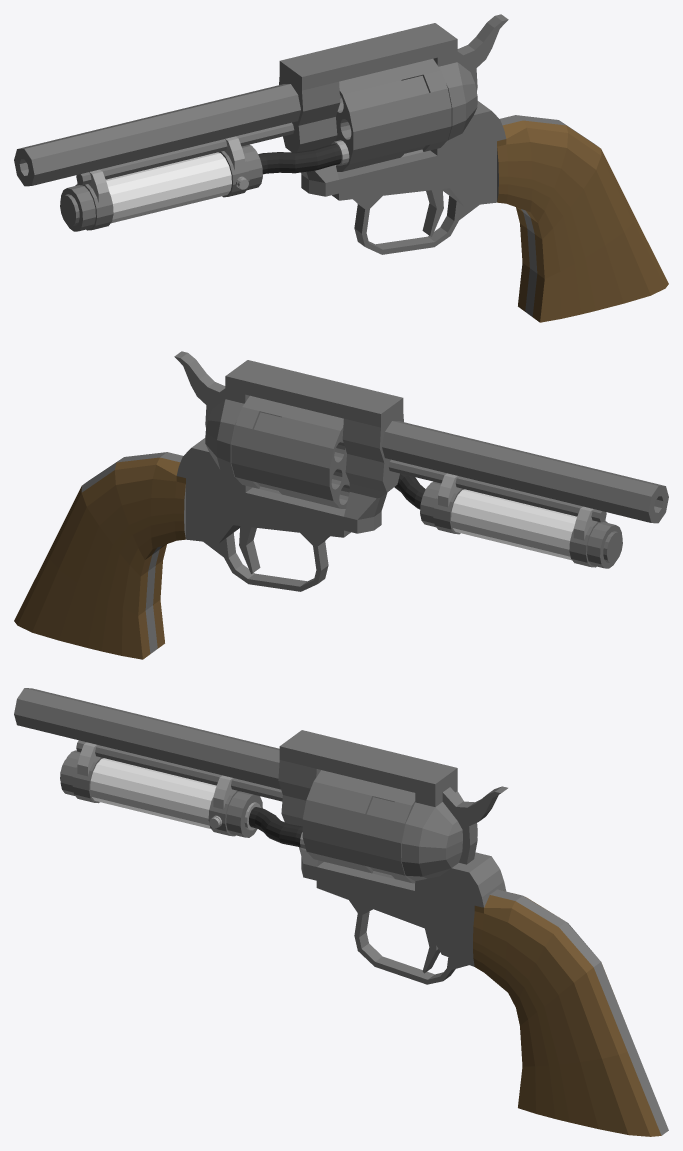
Rendered from low_poly_revolver.fbx.
3 renders of one model, top to bottom at view 1: azimuth 30°, elevation 25°; view 2: azimuth 150°, elevation 25°; view 3: azimuth 330°, elevation 25°, orthographic.
Parts seen in each view (by area): view 1: body, Cylinder, Cylinder.003, Cylinder.004, Cylinder.006; view 2: body, Cylinder, Cylinder.003, Cylinder.006, Cylinder.004; view 3: body, Cylinder, Cylinder.003, Cylinder.006, Cylinder.004.
Boxes of the visible parts, box(x1,y1,x2,y2) form: body: box(14, 14, 668, 322); Cylinder: box(106, 152, 231, 223); Cylinder.003: box(60, 144, 262, 231); Cylinder.004: box(258, 144, 341, 174); Cylinder.006: box(77, 136, 349, 203); body: box(14, 351, 668, 659); Cylinder: box(451, 489, 576, 560); Cylinder.003: box(420, 481, 622, 568); Cylinder.006: box(438, 473, 605, 540); Cylinder.004: box(394, 473, 425, 509); body: box(14, 688, 668, 1136); Cylinder: box(90, 758, 216, 828); Cylinder.003: box(60, 750, 262, 837); Cylinder.006: box(77, 742, 306, 850); Cylinder.004: box(249, 807, 302, 847).
Size of the model in its own units: 996 by 451 by 136.
